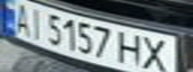1: (57, 16, 78, 51)
5: (39, 11, 66, 46), (72, 20, 96, 55)
7: (90, 24, 118, 61)
A: (6, 1, 36, 36)
H: (115, 29, 148, 68)
I: (24, 6, 48, 40)
X: (139, 35, 175, 72)
